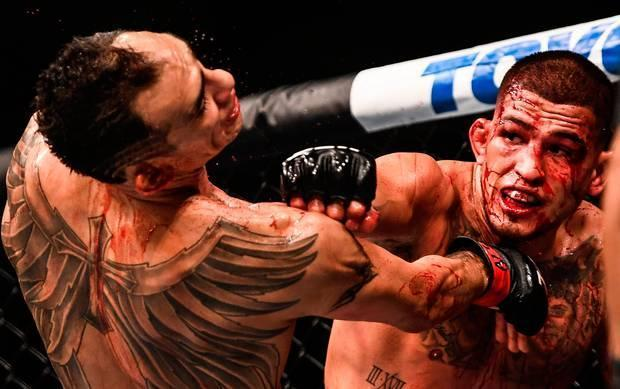Fire: (423, 76, 610, 388), (83, 158, 244, 378), (370, 252, 490, 324), (252, 203, 349, 240)
